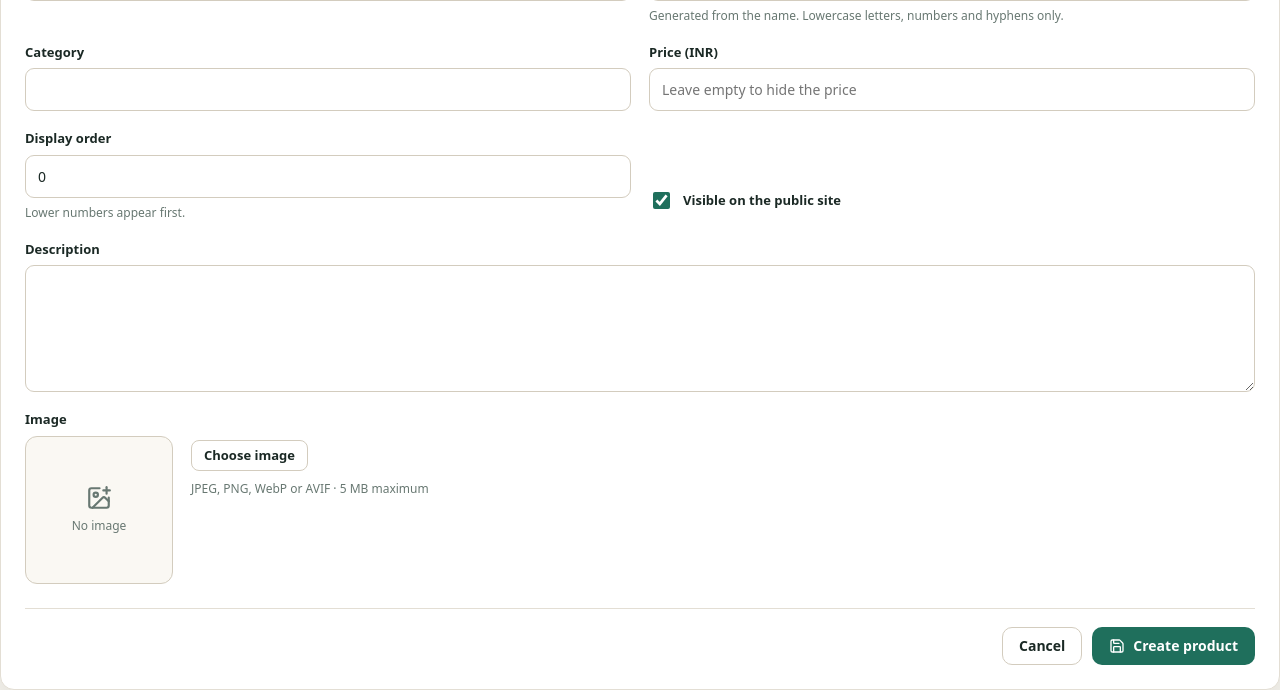
Test: catalogue form › validates required fields and the image
This screenshot has width=1280, height=690.
(page scrolled)
Click the button "Create product".
click(1174, 646)  # box x1=1092 y1=626 x2=1255 y2=665
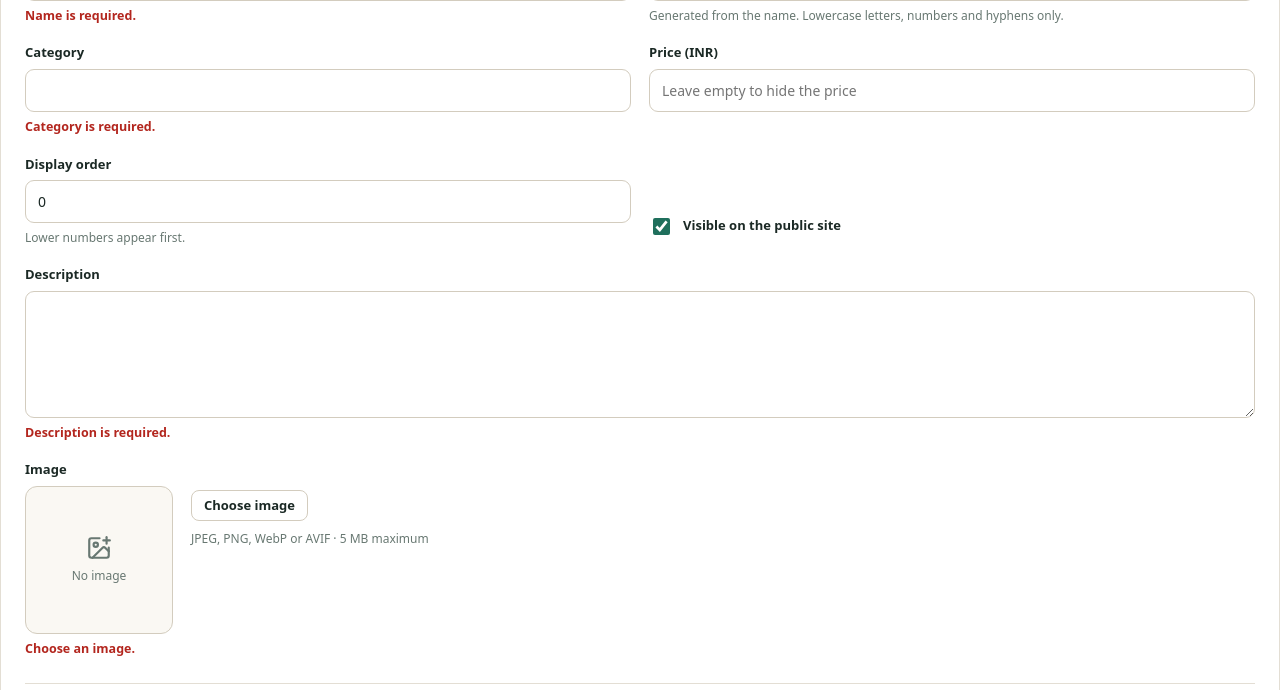
Now the text "Name is required." is shown, box x1=25 y1=6 x2=136 y2=24
Now the text "Description is required." is shown, box x1=25 y1=424 x2=170 y2=440
Now the text "Category is required." is shown, box x1=25 y1=118 x2=155 y2=135
